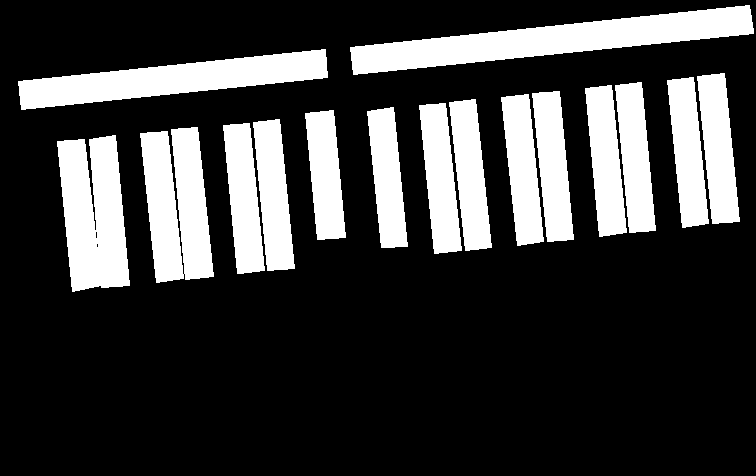parkingspot: (350, 5, 753, 74), (18, 49, 327, 109), (57, 139, 101, 291), (140, 131, 183, 282), (171, 127, 213, 279), (449, 99, 491, 250), (501, 94, 543, 245), (419, 103, 461, 253), (697, 73, 739, 223), (253, 119, 294, 270), (585, 85, 626, 236), (223, 123, 264, 273), (532, 91, 573, 241), (667, 77, 708, 227), (89, 135, 129, 287), (615, 82, 655, 232), (367, 107, 407, 247), (305, 110, 345, 239)
